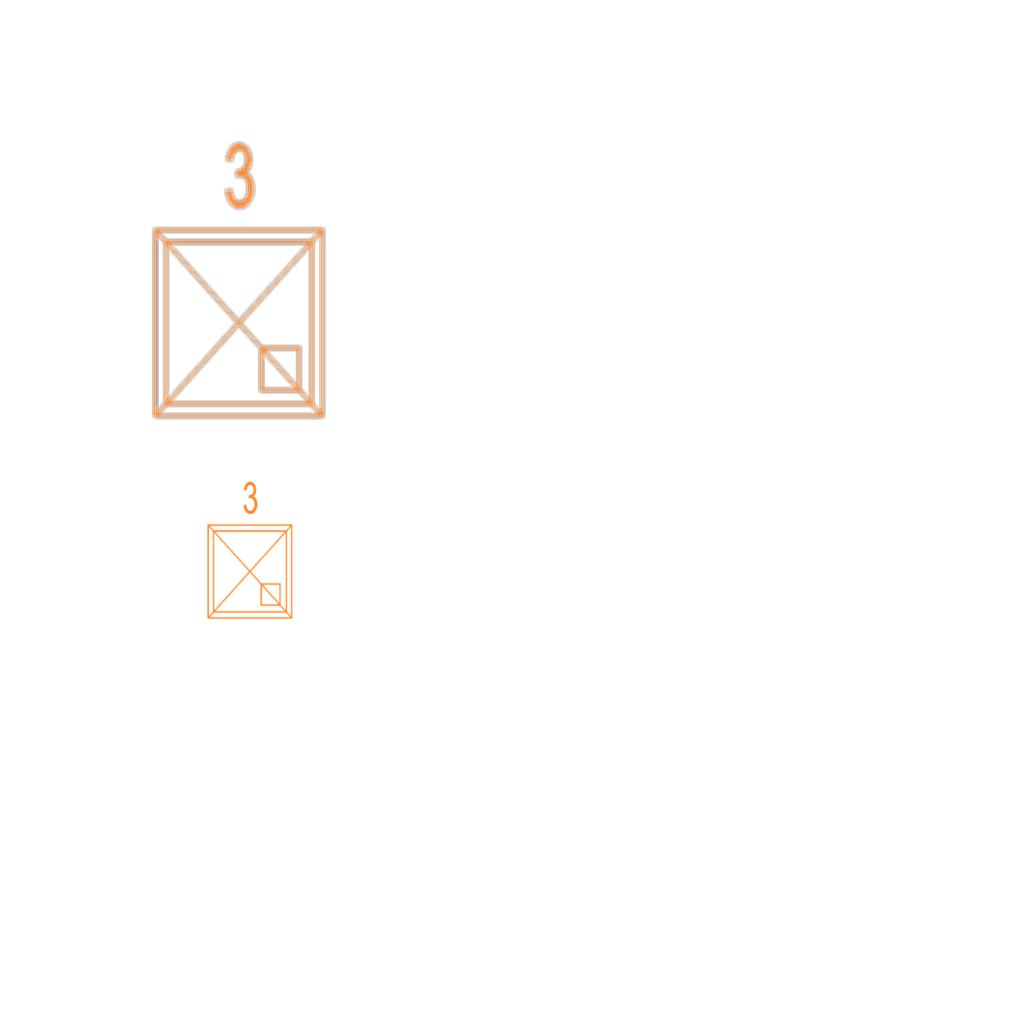Einbaudownlights_LED_Konferenzraeume: (131, 132, 339, 432), (196, 476, 300, 626)
